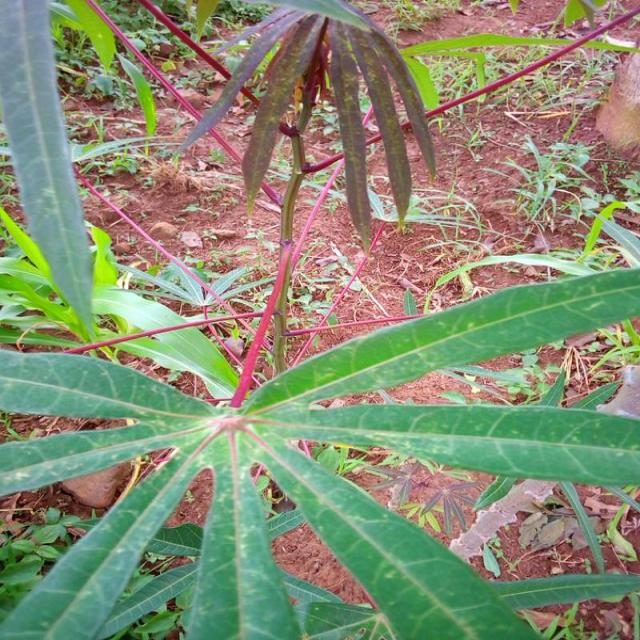cassava leaf: (0, 1, 638, 638), (241, 263, 639, 415), (0, 0, 97, 343)
